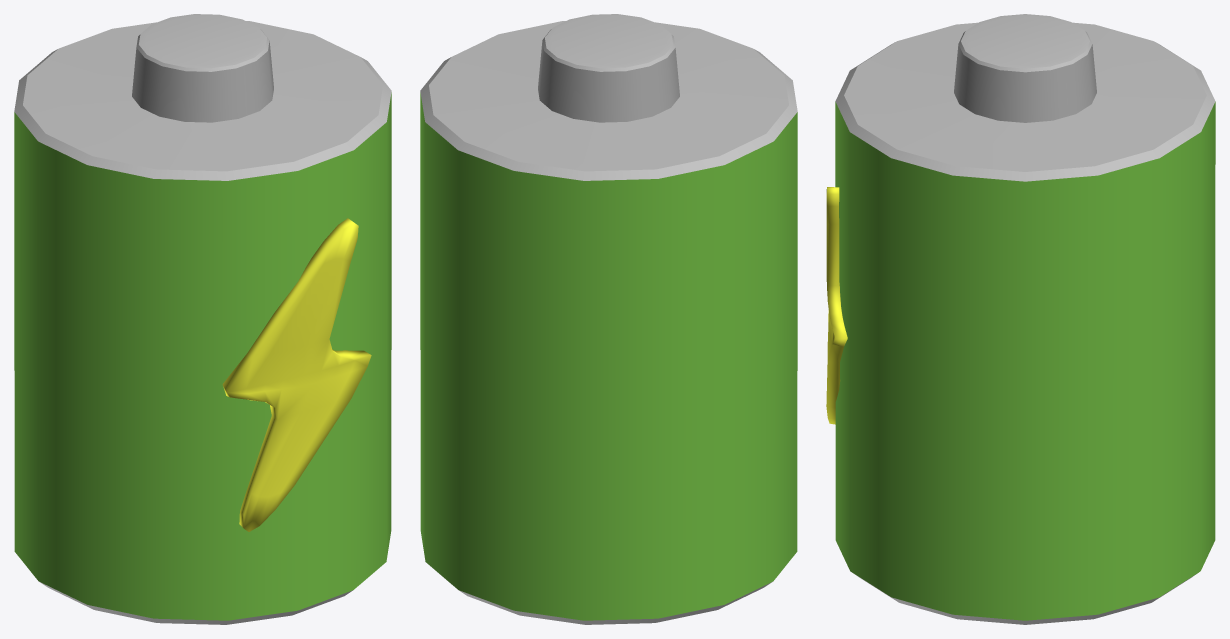
Rendered from Props_Battery1.fbx.
3 views of the same model, side by side, from view 1: azimuth 30°, elevation 25°; view 2: azimuth 150°, elevation 25°; view 3: azimuth 270°, elevation 25° (orthographic).
Visible parts, largest first — view 1: Props_Battery1; view 2: Props_Battery1; view 3: Props_Battery1.
Boxes of the visible parts, x1,y1,x2,y2 form: Props_Battery1: (14,14,391,624); Props_Battery1: (420,14,797,624); Props_Battery1: (826,14,1215,624).
Size of the model in its own units: 15.58 by 23.01 by 15.94.
